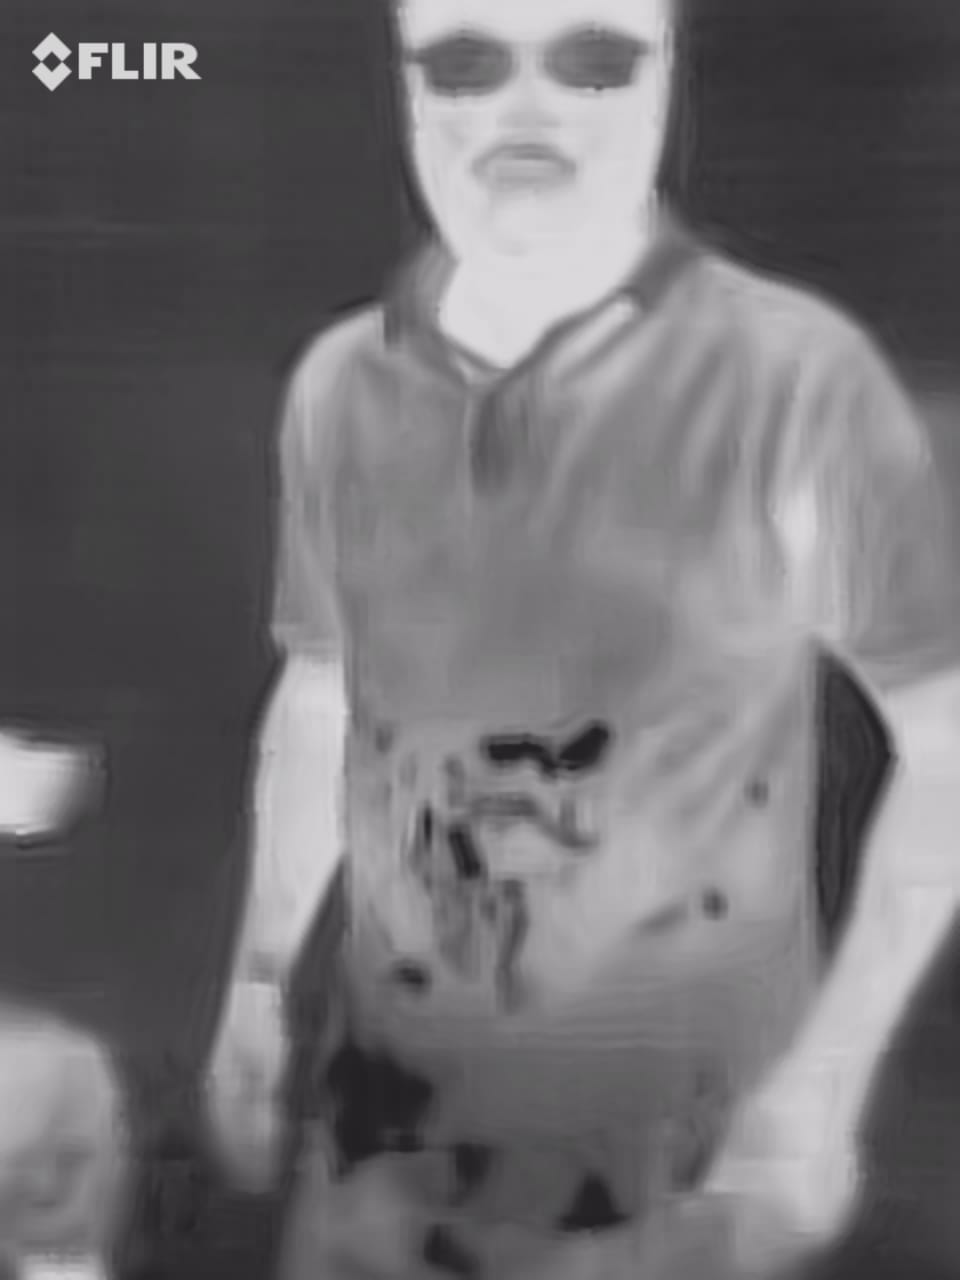head: (360, 1, 688, 284)
